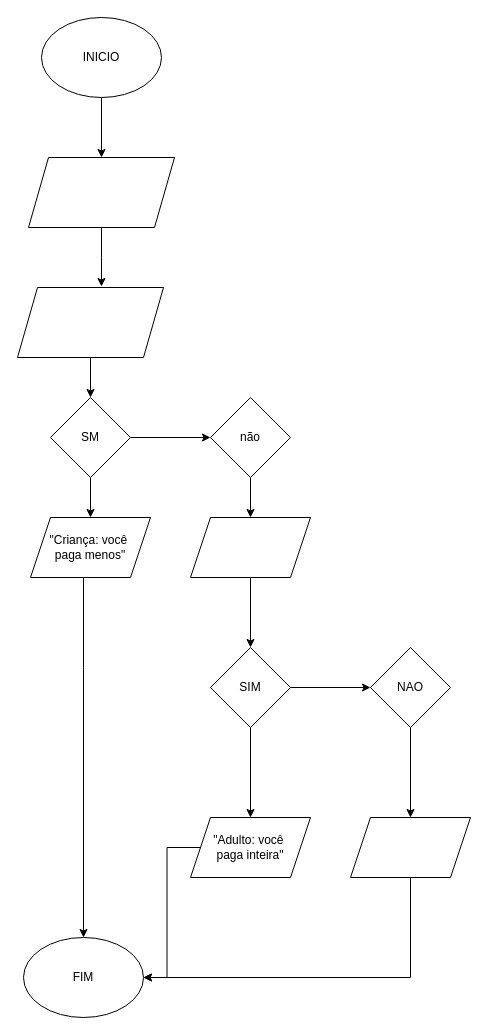
Some shapes in this 488 by 1035 pixel diagram are drawn without their labels. Each missing label, with the centre of its shape:
"Idoso: voce: paga meia": the point at 410,847
idade_do_ ingresso <=16: the point at 90,322
idade_do_ ingresso >=17 E <=50: the point at 250,547
LER idade_do_ ingresso: the point at 101,192
